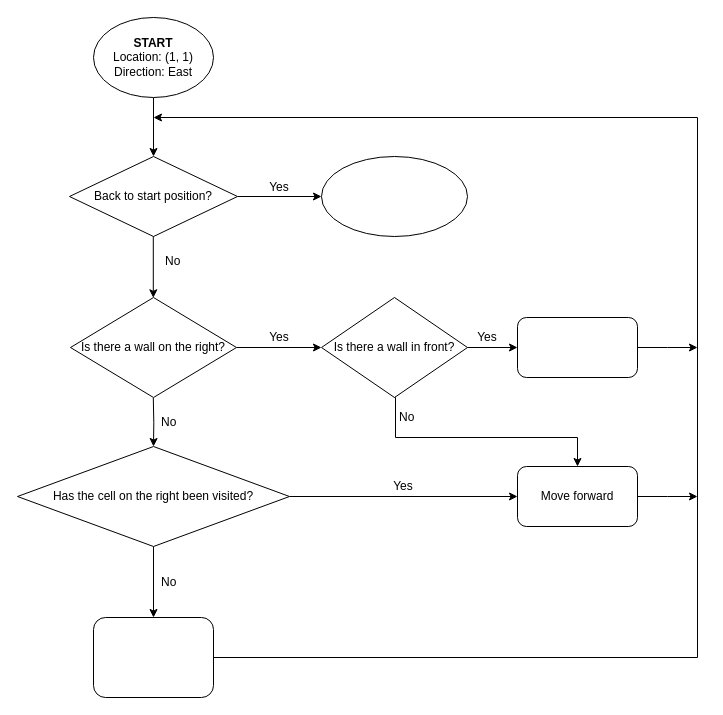
The diagram is 723 pixels wide and 715 high, and some of its shapes have lost their labels. Each missing label, with the centre of its shape:
END Stop exploration: [394,196]
Rotate left: [577,347]
Rotate right: [153,657]
